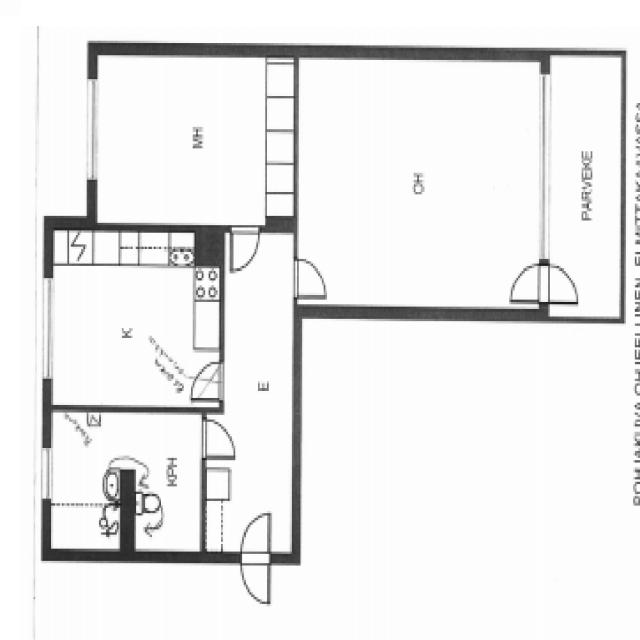door: (238, 510, 276, 610), (502, 260, 584, 306), (197, 414, 239, 464), (186, 355, 227, 404), (289, 253, 331, 300), (227, 222, 262, 275)
window: (528, 68, 558, 267), (33, 268, 58, 389), (80, 72, 103, 186), (36, 440, 58, 510)
zone: (294, 57, 548, 314), (90, 51, 292, 230), (45, 228, 224, 412), (44, 404, 130, 560), (128, 409, 205, 556)
